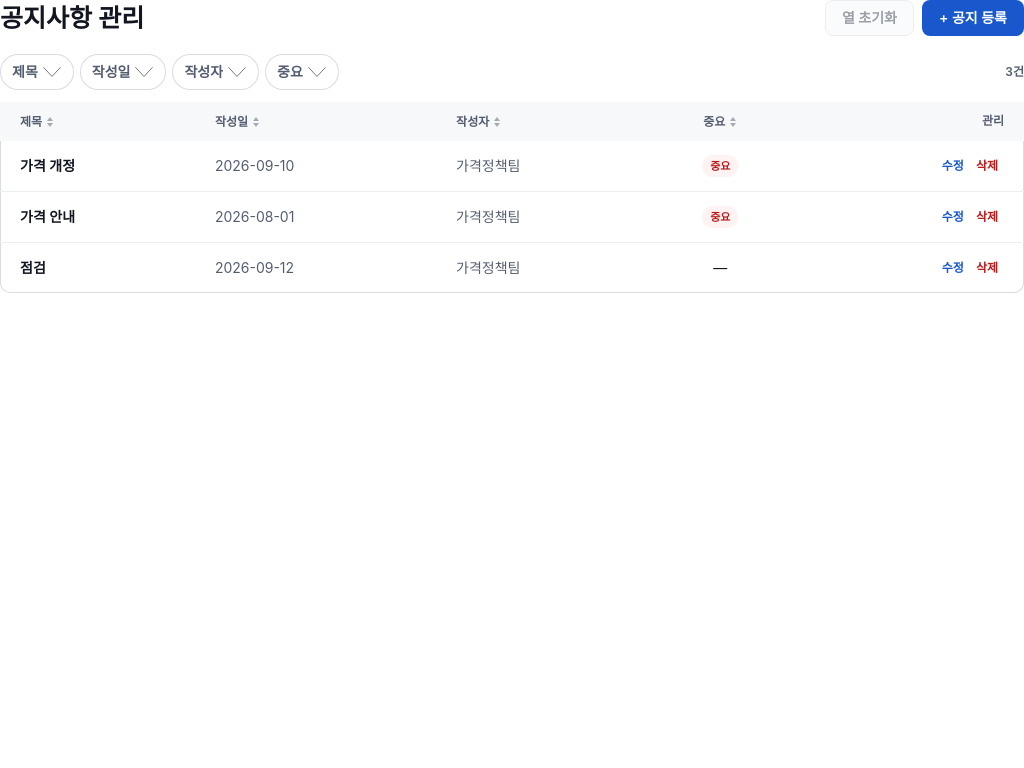
NoticesAdminTable 열 필터 › 0건 → 필터 빈 상태(데이터 없음 문구와 구분)
This screenshot has width=1024, height=768.
Click the button "제목" in the row of "3건" at coordinates (37, 72), box top-left (0, 54), bottom-right (74, 90)
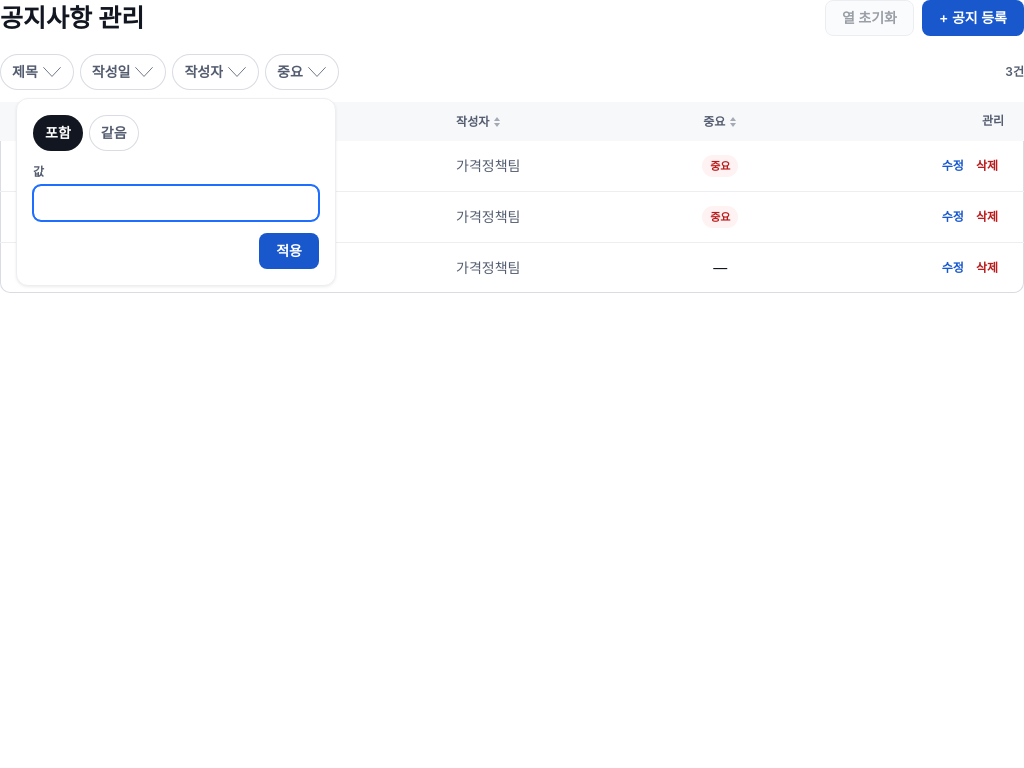
Type "없는 제목" into the field labelled "값" at coordinates (176, 203), box top-left (33, 185), bottom-right (319, 221)
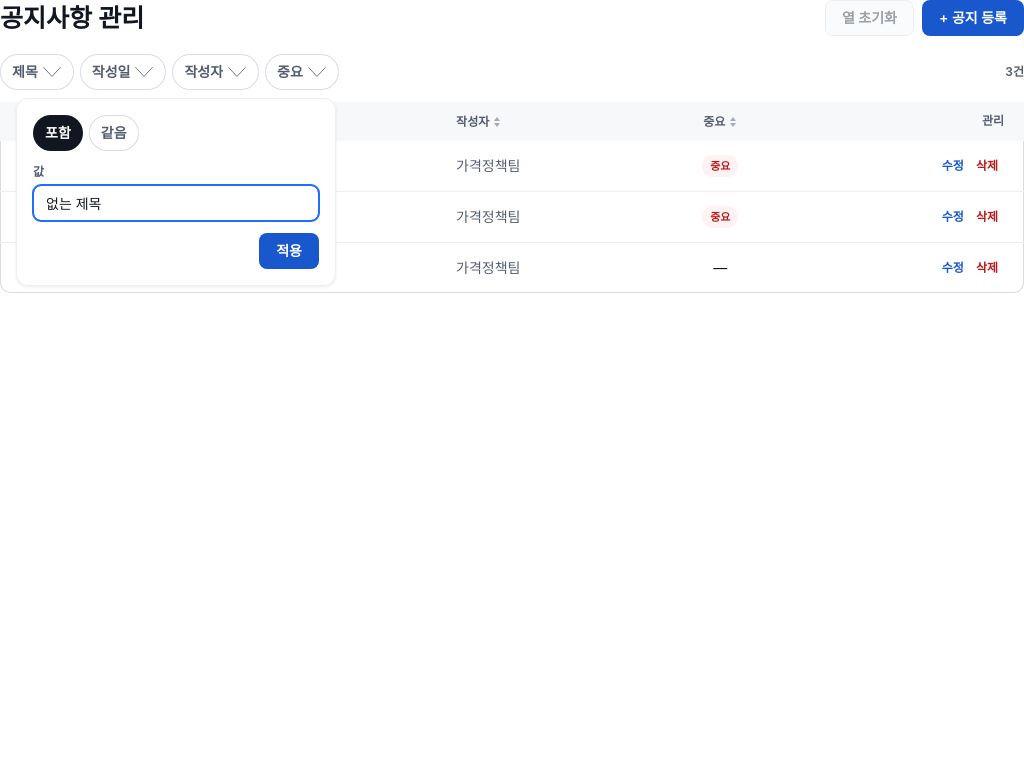
Click the button "적용" at coordinates (289, 251), box top-left (259, 233), bottom-right (319, 269)
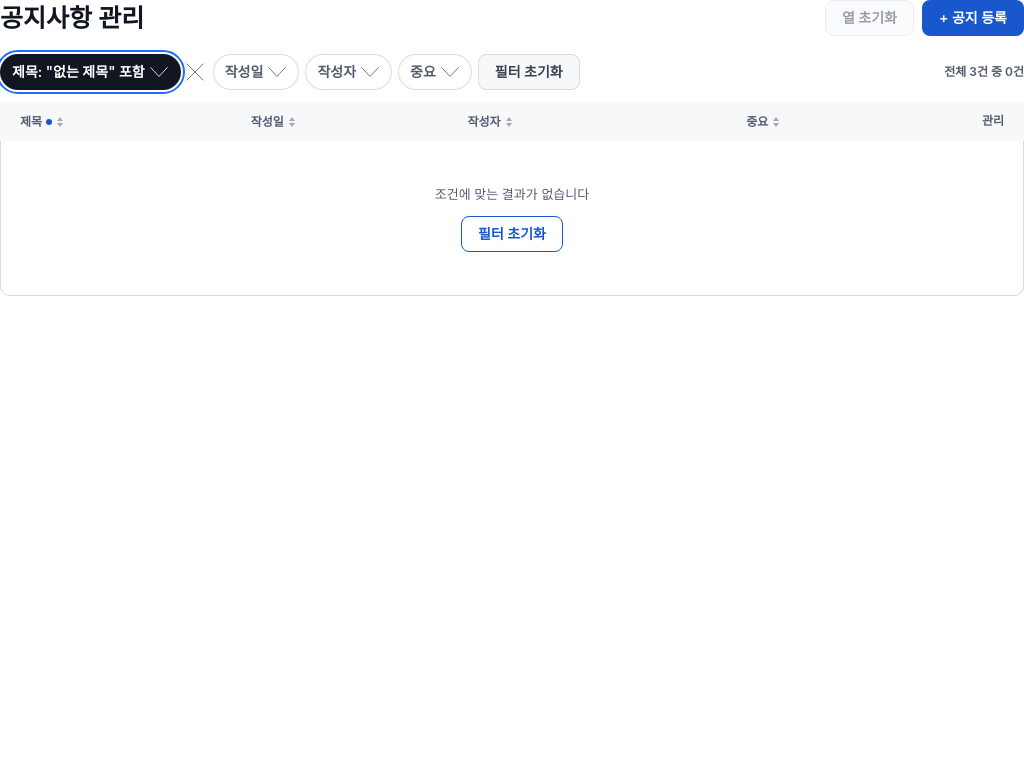
expect the text "조건에 맞는 결과가 없습니다" is shown: met, box top-left (435, 185), bottom-right (589, 204)
